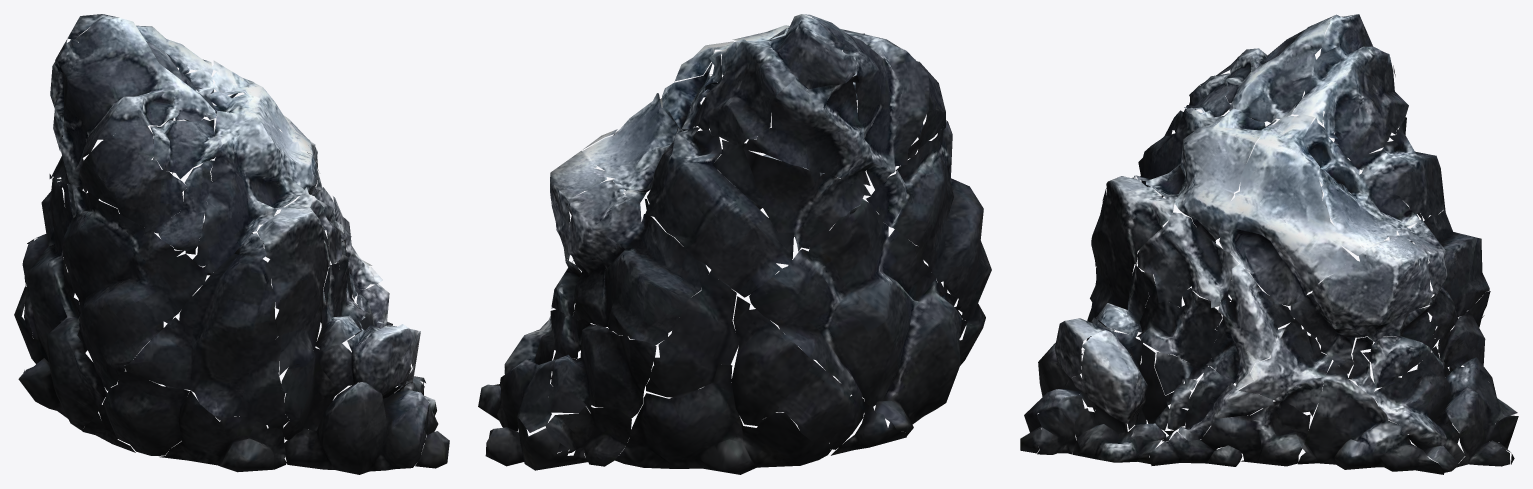
Rendered from dep_silver.glb.
3 renders of one model, left to right at view 1: azimuth 30°, elevation 25°; view 2: azimuth 150°, elevation 25°; view 3: azimuth 270°, elevation 25°, orthographic. The views are drawn at different scales.
Visible parts, largest first — view 1: tripo_node_48ac4b9a-d4e8-4081-9439-6580b6a4b870; view 2: tripo_node_48ac4b9a-d4e8-4081-9439-6580b6a4b870; view 3: tripo_node_48ac4b9a-d4e8-4081-9439-6580b6a4b870.
Boxes of the visible parts, x1,y1,x2,y2 form: tripo_node_48ac4b9a-d4e8-4081-9439-6580b6a4b870: (14,14,449,474); tripo_node_48ac4b9a-d4e8-4081-9439-6580b6a4b870: (478,14,991,474); tripo_node_48ac4b9a-d4e8-4081-9439-6580b6a4b870: (1020,14,1518,474).
Bounding box in the file's own units: 0.7969 × 0.8534 × 1.07.
1 material, 1 textured.
